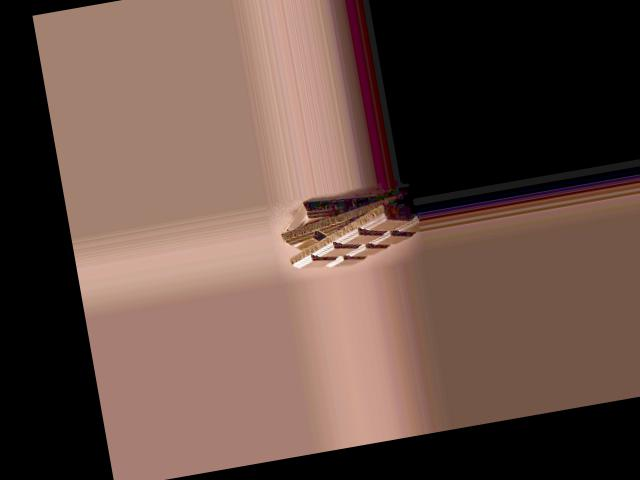chocolate: (278, 192, 420, 275)
